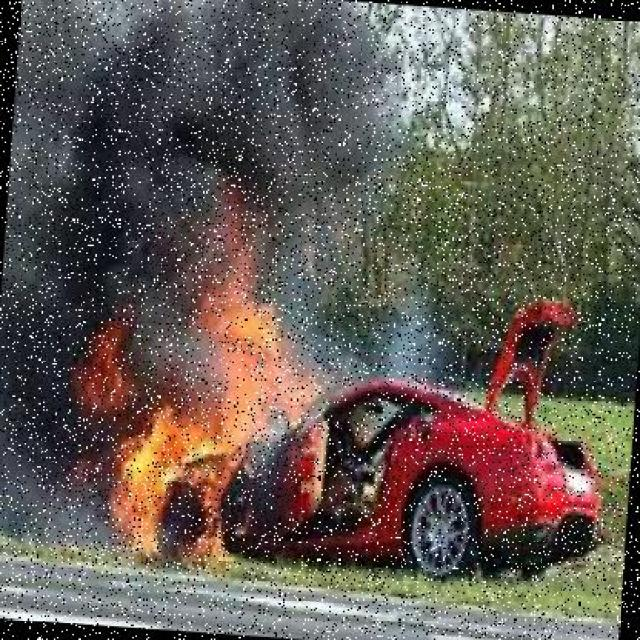fire: (55, 183, 380, 605)
